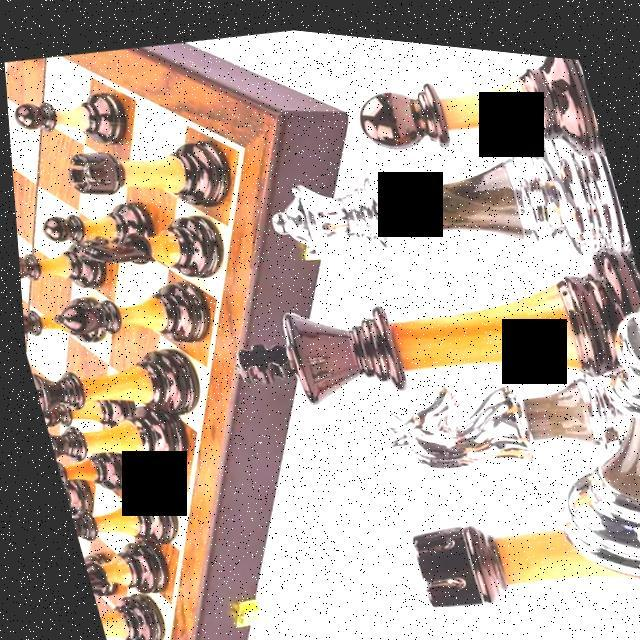chess-table-corners: (200, 104, 268, 180), (119, 618, 184, 640)
